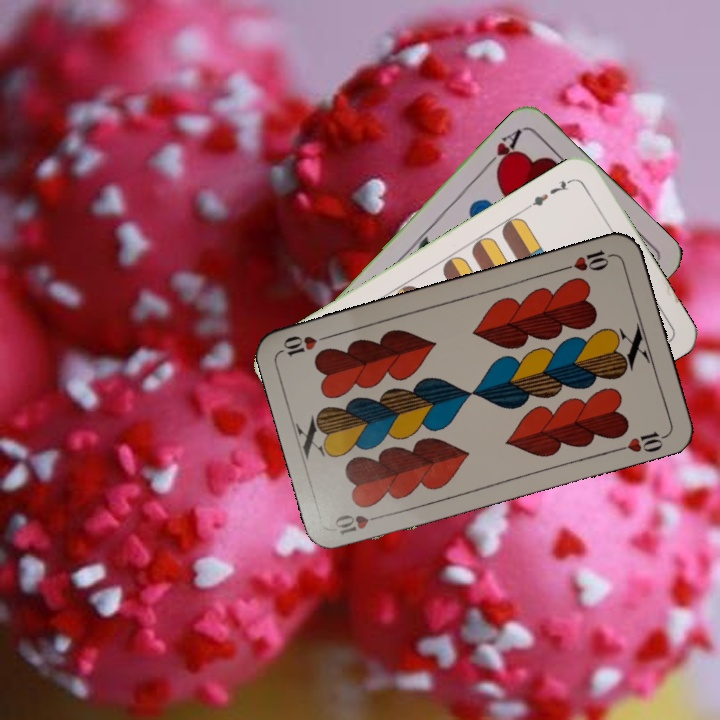E7: (523, 174, 577, 210)
H10: (330, 509, 389, 538), (558, 246, 616, 274)
HA: (480, 124, 525, 176)
